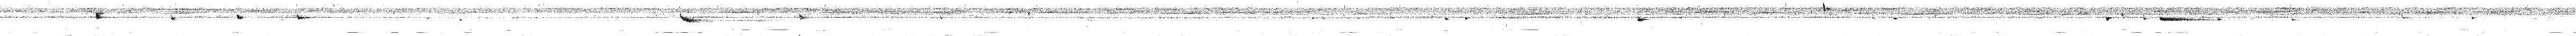meteor: (2160, 16, 2215, 21), (680, 13, 703, 23), (297, 15, 310, 20), (798, 15, 812, 20), (1636, 18, 1649, 21), (171, 15, 177, 20), (237, 15, 243, 20), (1444, 16, 1449, 21)
